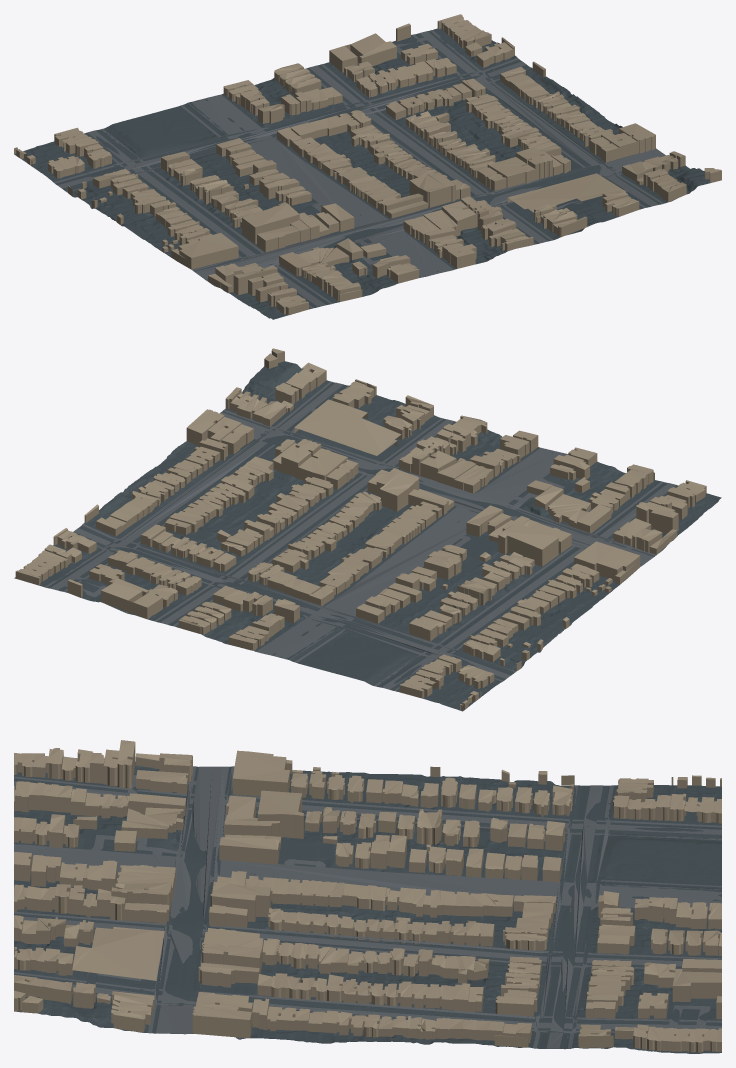
Rendered from epsg26910-1422-10878.lod0.glb.
3 views of the same model, one above another, from view 1: azimuth 30°, elevation 25°; view 2: azimuth 150°, elevation 25°; view 3: azimuth 270°, elevation 25° (orthographic). The views are drawn at different scales.
Parts seen in each view (by area): view 1: epsg26910-1422-10878-lod0; view 2: epsg26910-1422-10878-lod0; view 3: epsg26910-1422-10878-lod0.
Boxes of the visible parts, x1,y1,x2,y2 form: epsg26910-1422-10878-lod0: [14, 14, 721, 319]; epsg26910-1422-10878-lod0: [14, 348, 721, 711]; epsg26910-1422-10878-lod0: [14, 740, 721, 1053].
Bounding box in the file's own units: 384 × 52.33 × 384.
